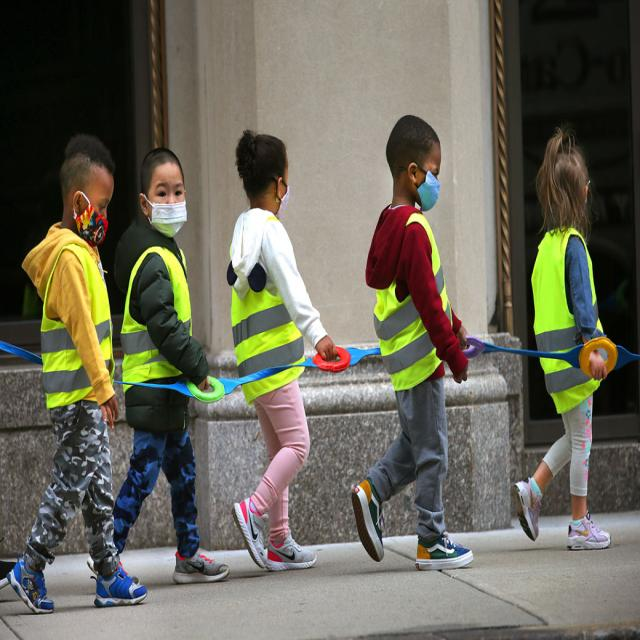Person: (8, 131, 148, 613), (352, 114, 474, 568), (113, 147, 230, 582), (233, 131, 336, 573), (513, 136, 611, 549)
